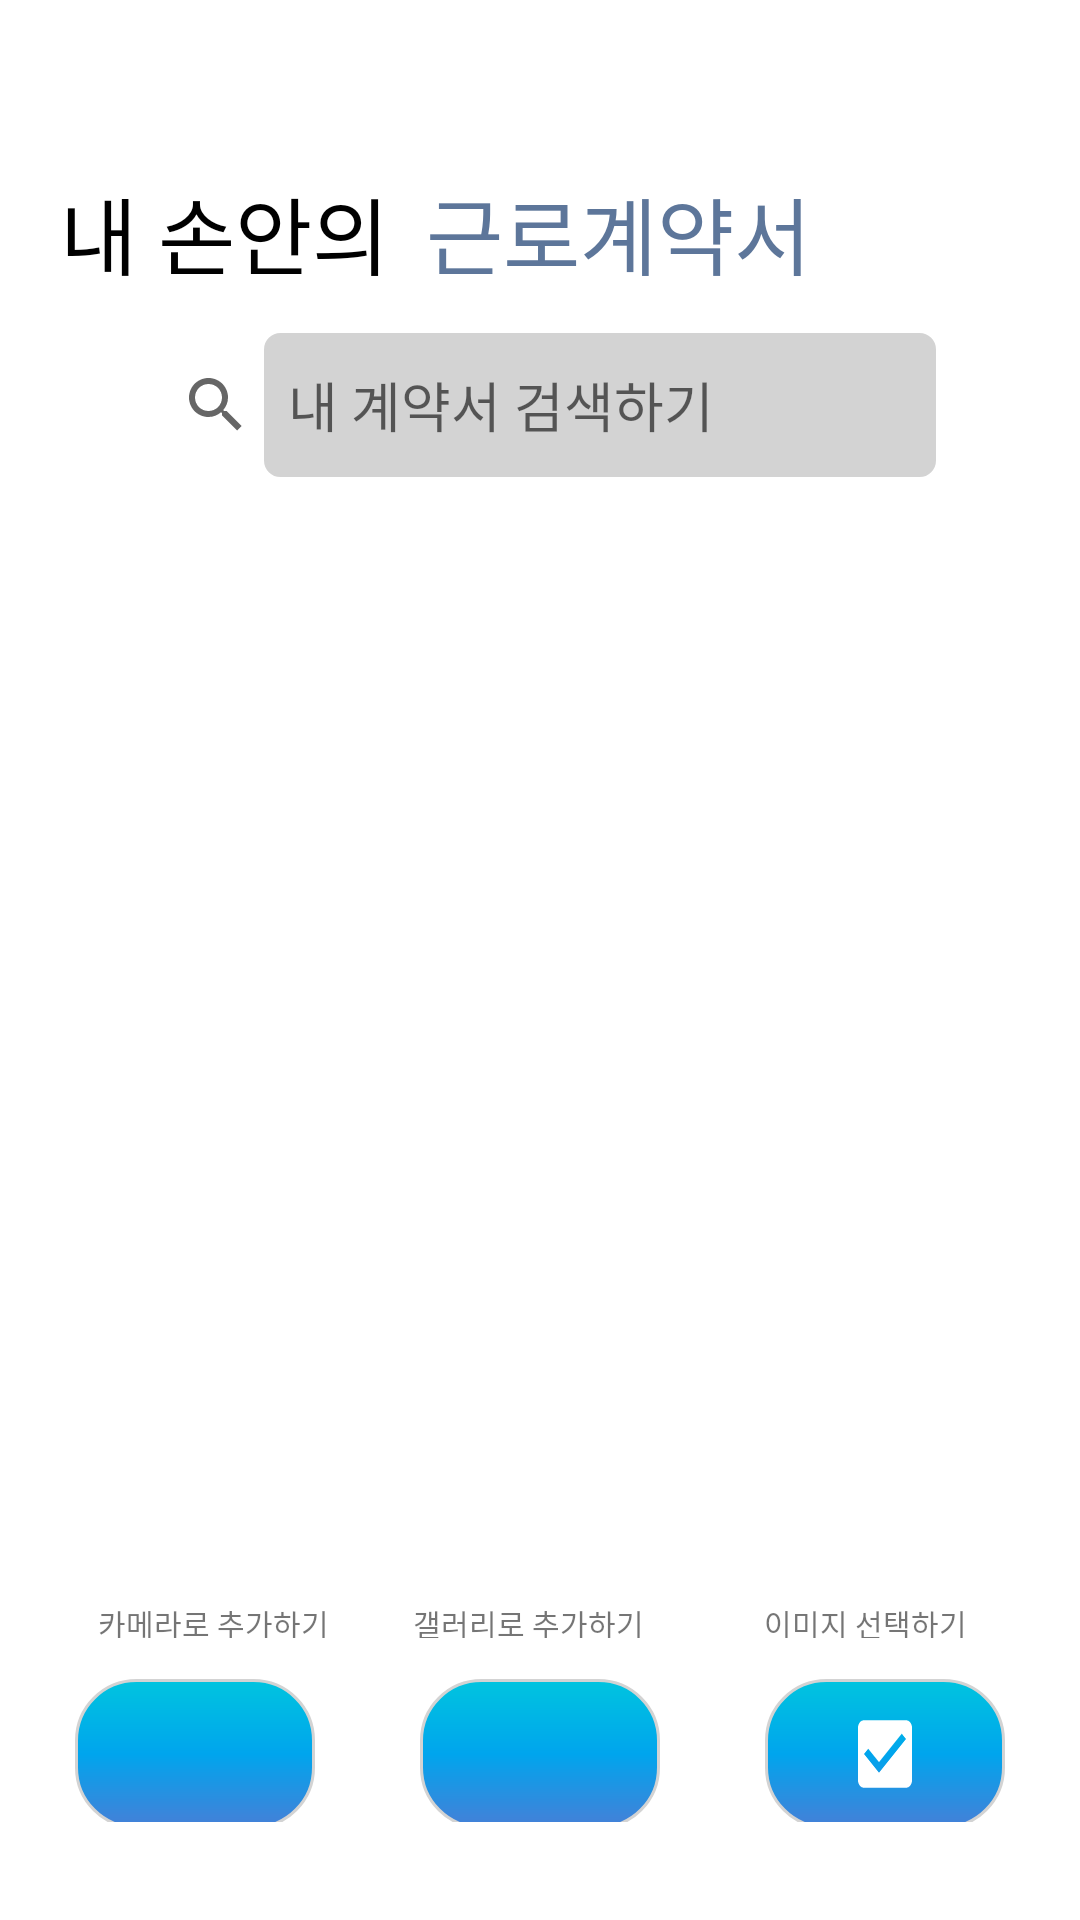

Icons on this 1080px x 1920px Android screen, each with the point to tap as (x=x, y=y):
check box: (x=885, y=1750)
